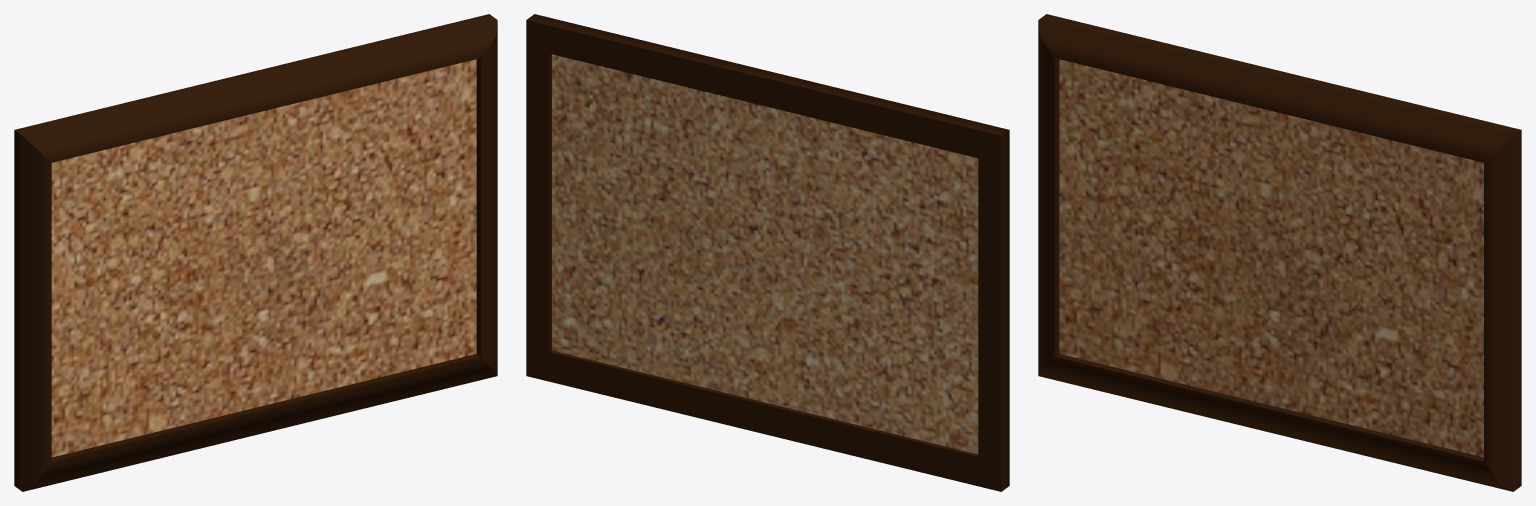
File: Cork Board Final.fbx
The picture shows the model from 3 angles, left to right: view 1: azimuth 30°, elevation 25°; view 2: azimuth 150°, elevation 25°; view 3: azimuth 330°, elevation 25°; orthographic projection.
Parts seen in each view (by area): view 1: polySurface2_1; view 2: polySurface2_1; view 3: polySurface2_1.
Part boxes in pixels (x1,y1,x2,y2): polySurface2_1: (14,14,497,491); polySurface2_1: (526,14,1009,491); polySurface2_1: (1038,14,1521,491).
Size of the model in its own units: 460 by 329 by 25.54.
